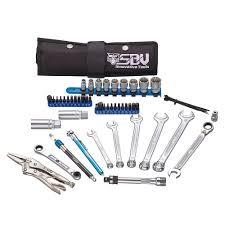wrench: (32, 142, 81, 179)
